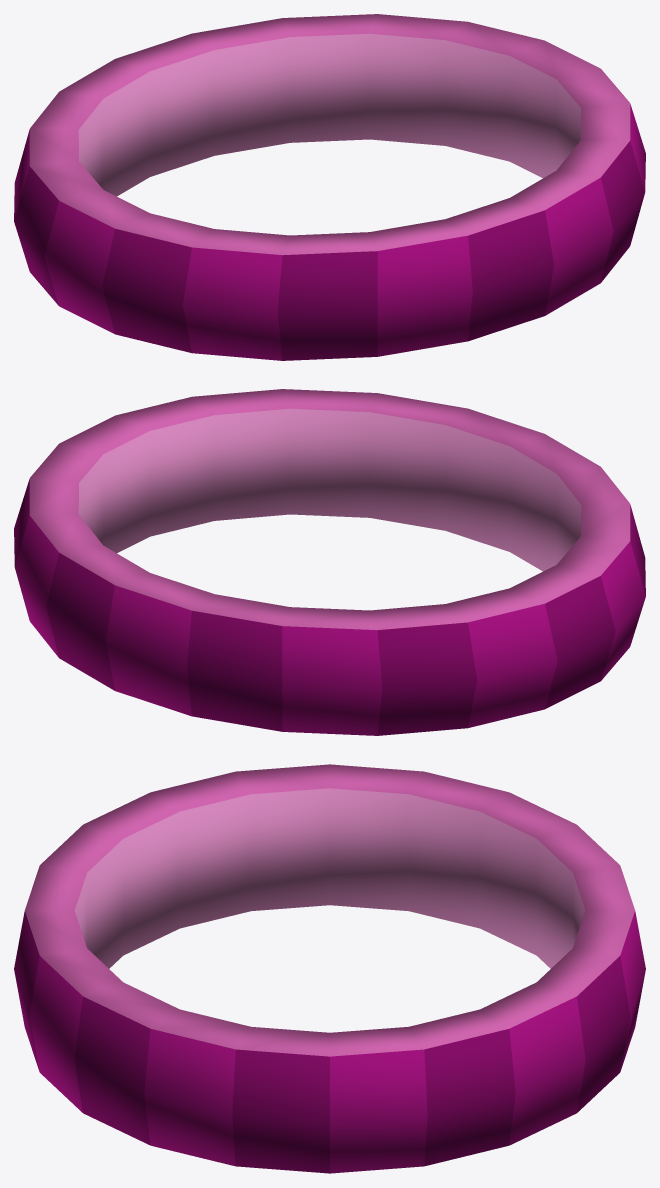
Rendered from Onion_red_ring_Hotdog .fbx.
3 renders of one model, top to bottom at view 1: azimuth 30°, elevation 25°; view 2: azimuth 150°, elevation 25°; view 3: azimuth 270°, elevation 25°, orthographic. The views are drawn at different scales.
Parts seen in each view (by area): view 1: Onion_red_ring_Hotdog; view 2: Onion_red_ring_Hotdog; view 3: Onion_red_ring_Hotdog.
Part boxes in pixels (x1=…): Onion_red_ring_Hotdog: x1=14, y1=14, x2=645, y2=360; Onion_red_ring_Hotdog: x1=14, y1=389, x2=645, y2=735; Onion_red_ring_Hotdog: x1=14, y1=764, x2=645, y2=1173.
Size of the model in its own units: 66.84 by 57.88 by 11.82.
